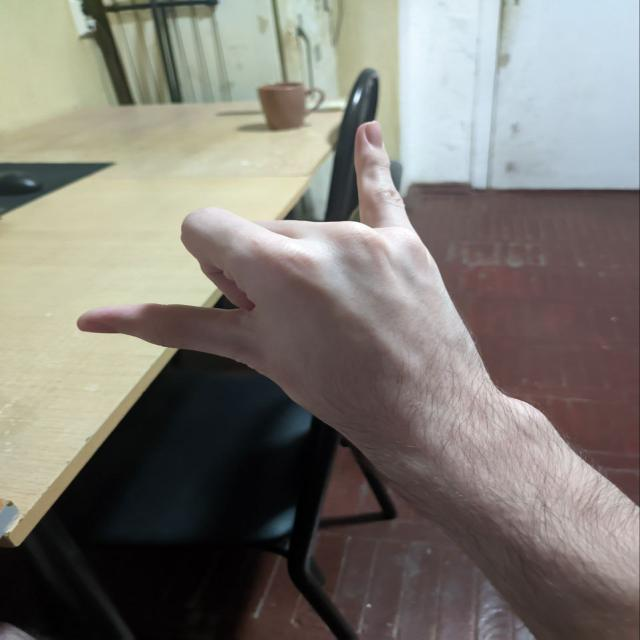u: (73, 105, 521, 398)
